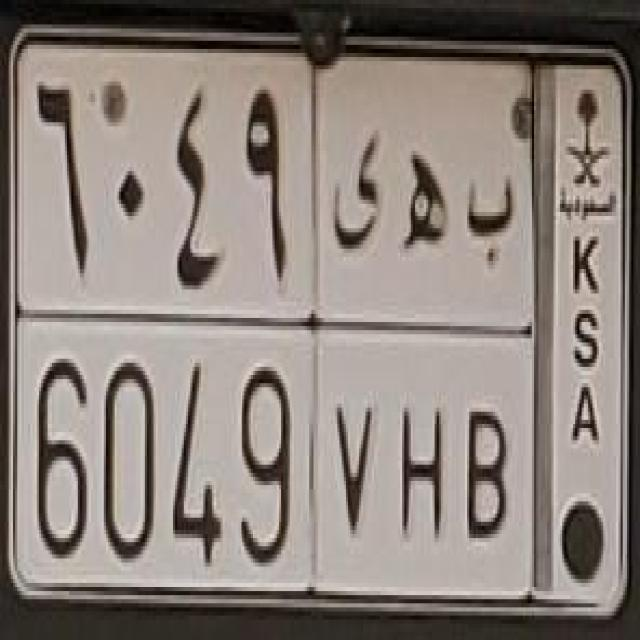license_plate: (13, 32, 632, 616)
